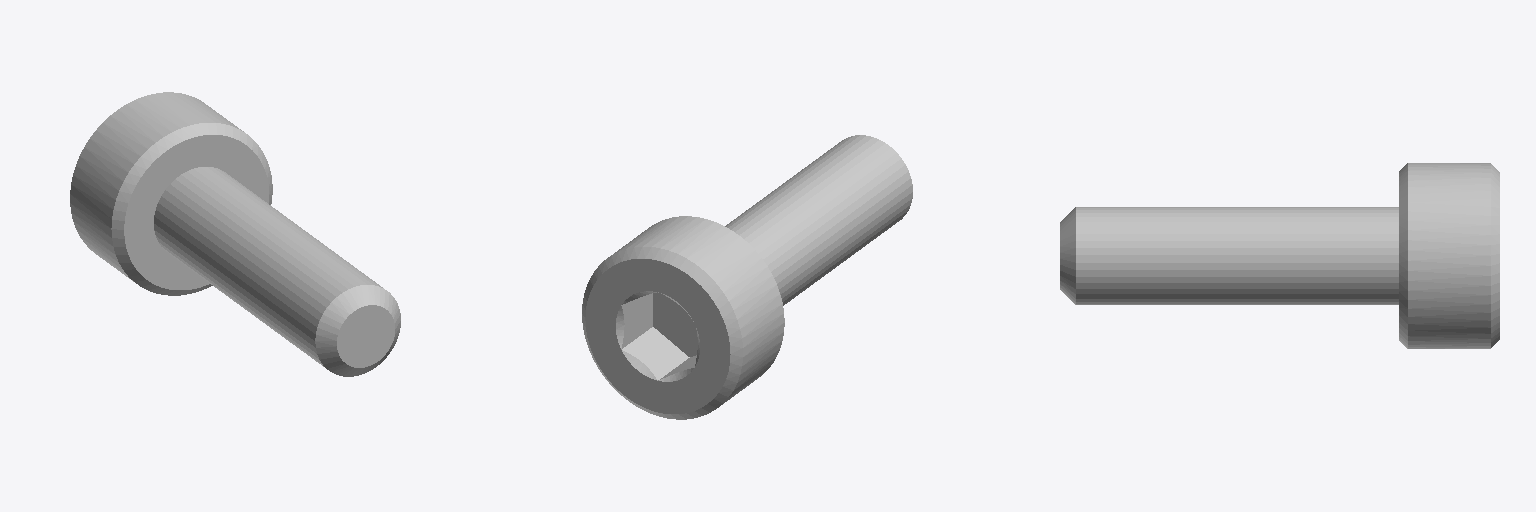
3 views of the same model, side by side, from view 1: azimuth 30°, elevation 25°; view 2: azimuth 150°, elevation 25°; view 3: azimuth 270°, elevation 25° (orthographic).
Visible parts, largest first — view 1: Body3, Body1; view 2: Body1, Body3; view 3: Body3, Body1.
Part boxes in pixels (x1,y1,x2,y2): Body3: (154,167,400,376); Body1: (70,92,272,295); Body1: (582,216,784,419); Body3: (725,135,912,305); Body3: (1060,207,1398,304); Body1: (1399,163,1499,348).
Bounding box in the file's own units: 0.55 × 0.5498 × 1.3.